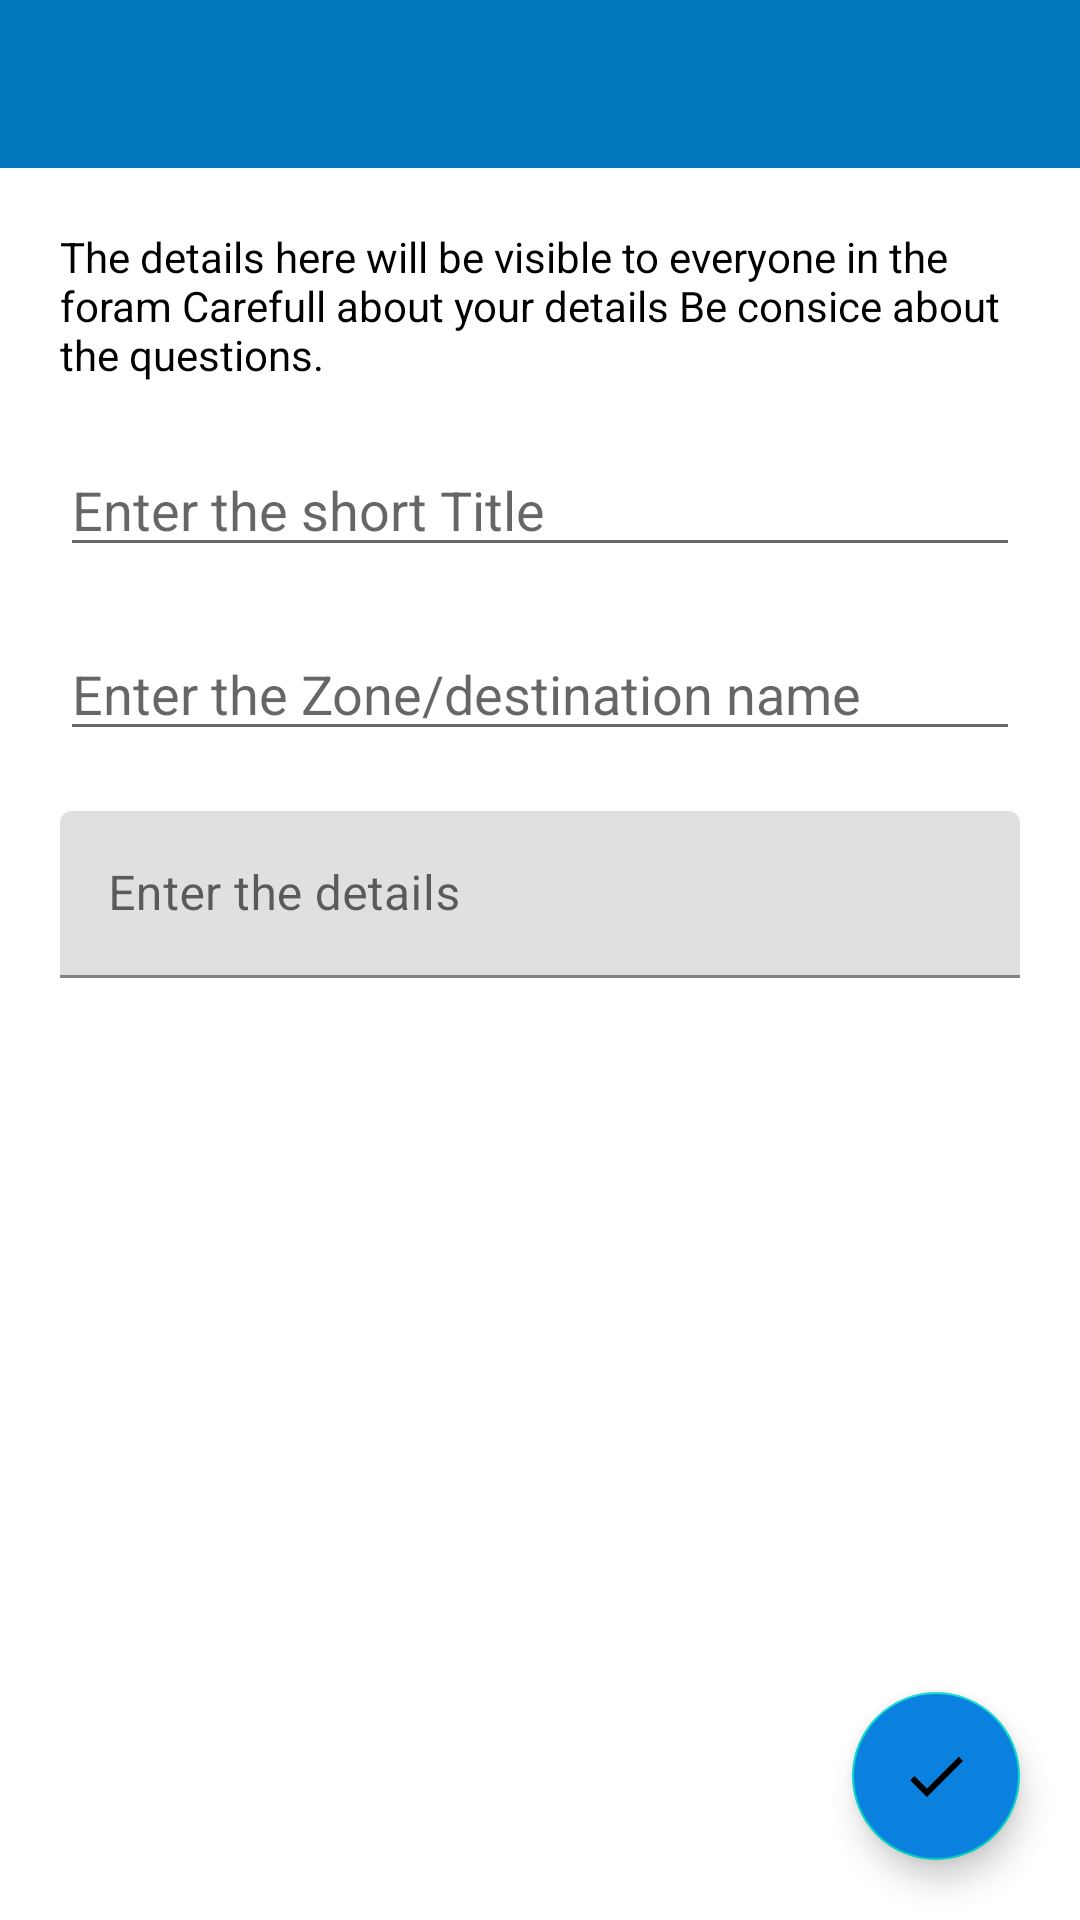

Screen size 1080 x 1920. Icon name, then its box in pixels as Rect(x1, y1, x2, y2):
done: Rect(852, 1692, 1020, 1860)
